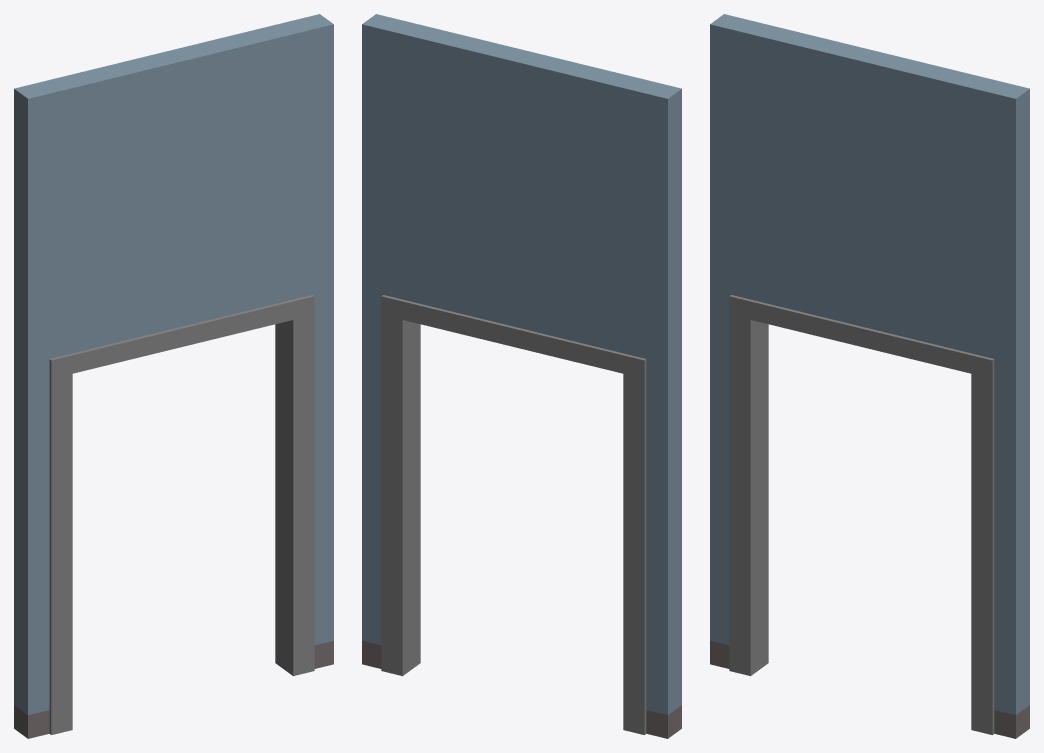
The model's file is wallOfficeDoorFrame.fbx.
The picture shows the model from 3 angles, left to right: view 1: azimuth 30°, elevation 25°; view 2: azimuth 150°, elevation 25°; view 3: azimuth 330°, elevation 25°; orthographic projection.
Parts seen in each view (by area): view 1: Wall - OfficeDoorFrame; view 2: Wall - OfficeDoorFrame; view 3: Wall - OfficeDoorFrame.
Boxes of the visible parts, bbox=[...] form: Wall - OfficeDoorFrame: bbox=[14, 14, 333, 738]; Wall - OfficeDoorFrame: bbox=[362, 14, 681, 738]; Wall - OfficeDoorFrame: bbox=[710, 14, 1029, 738].
Bounding box in the file's own units: 200 × 20.48 × 400.
